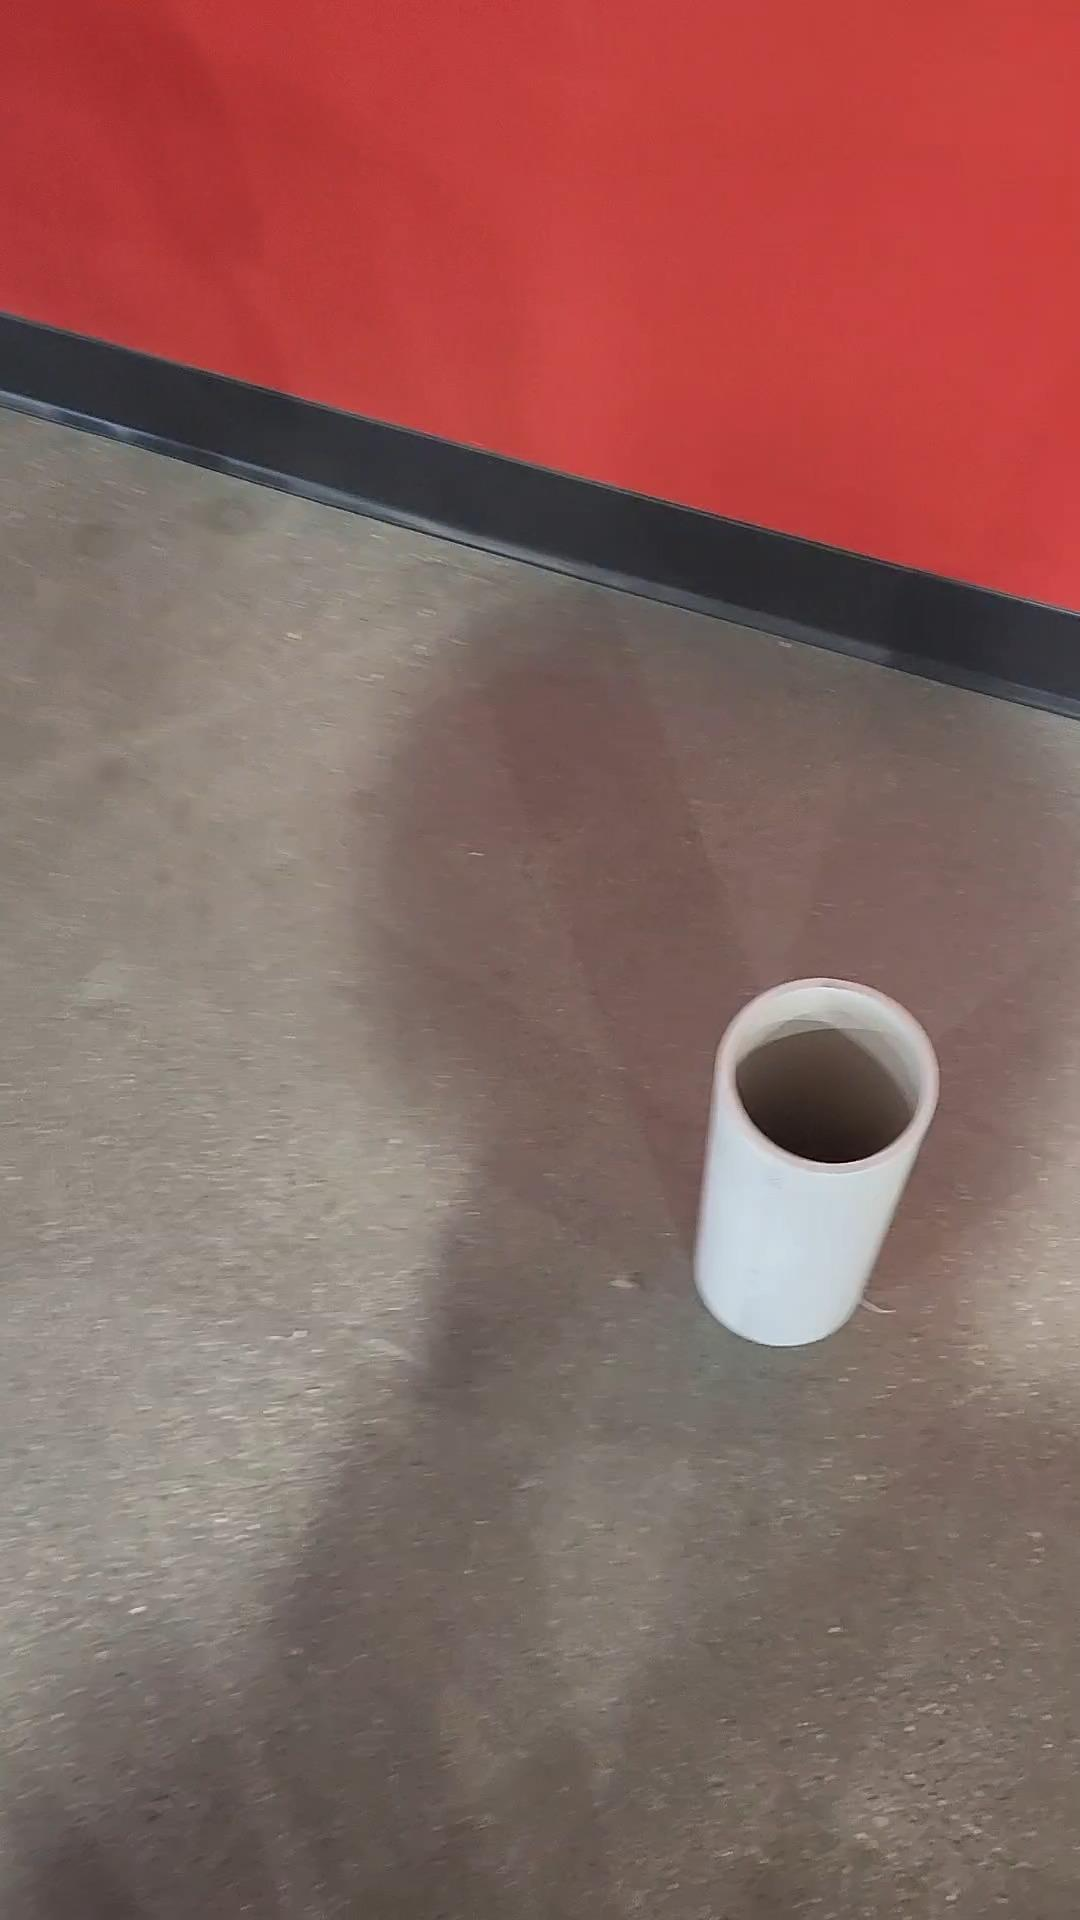coral: (684, 972, 943, 1352)
